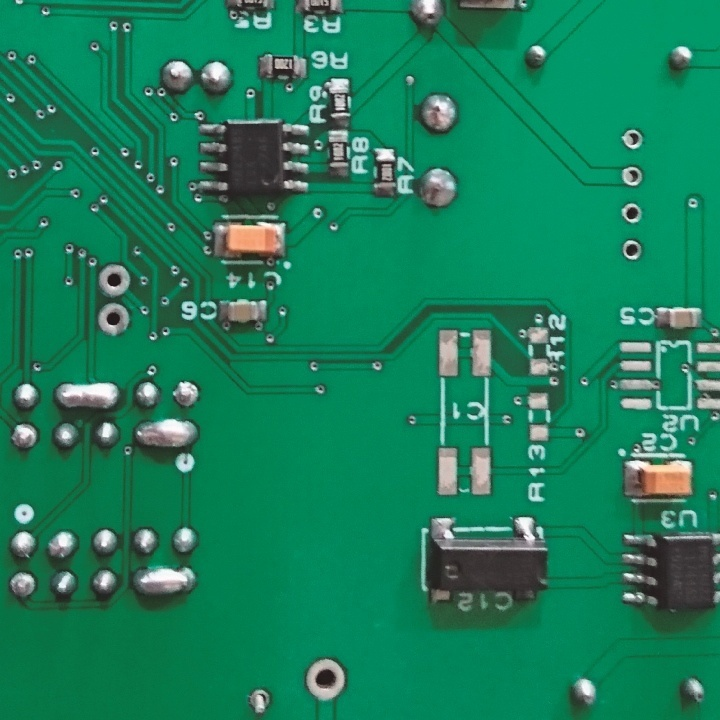F: (302, 655, 351, 705), (95, 300, 134, 339), (96, 262, 133, 298), (242, 686, 276, 720), (6, 569, 40, 600), (171, 378, 202, 411), (10, 421, 43, 452), (619, 123, 647, 155), (621, 160, 644, 191), (621, 235, 644, 266), (621, 200, 644, 229)
P: (130, 566, 200, 600), (52, 380, 123, 412), (136, 420, 201, 451)
